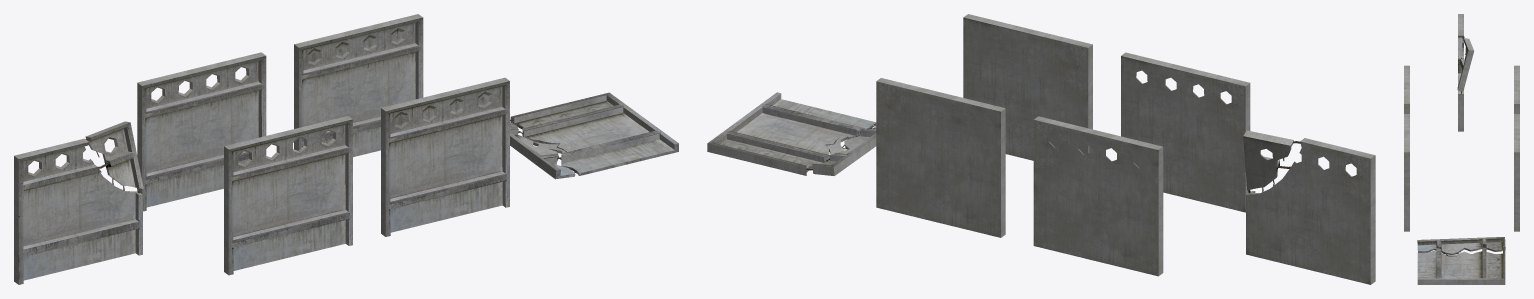
The model's file is zabor.fbx.
3 views of the same model, side by side, from view 1: azimuth 30°, elevation 25°; view 2: azimuth 150°, elevation 25°; view 3: azimuth 270°, elevation 25° (orthographic). The views are drawn at different scales.
Parts seen in each view (by area): view 1: bn007; view 2: bn007; view 3: bn007.
Part boxes in pixels (x1,y1,x2,y2): bn007: [14, 14, 678, 284]; bn007: [707, 14, 1375, 284]; bn007: [1404, 14, 1519, 284].
Bounding box in the file's own units: 426 × 82.42 × 107.
